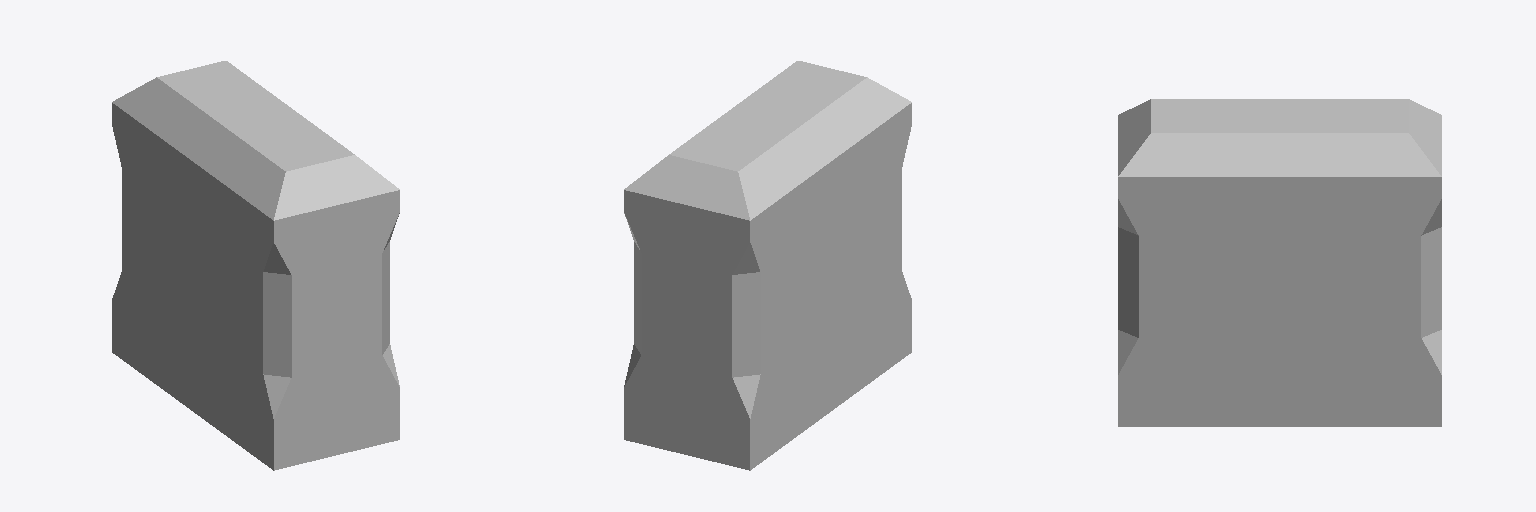
The model's file is WheelMount.obj.
3 renders of one model, left to right at view 1: azimuth 30°, elevation 25°; view 2: azimuth 150°, elevation 25°; view 3: azimuth 270°, elevation 25°, orthographic.
Parts seen in each view (by area): view 1: Cube; view 2: Cube; view 3: Cube.
Boxes of the visible parts, x1,y1,x2,y2 form: Cube: [112, 61, 399, 470]; Cube: [624, 61, 911, 470]; Cube: [1118, 99, 1441, 426].
Size of the model in its own units: 3.42 by 7.22 by 7.57.